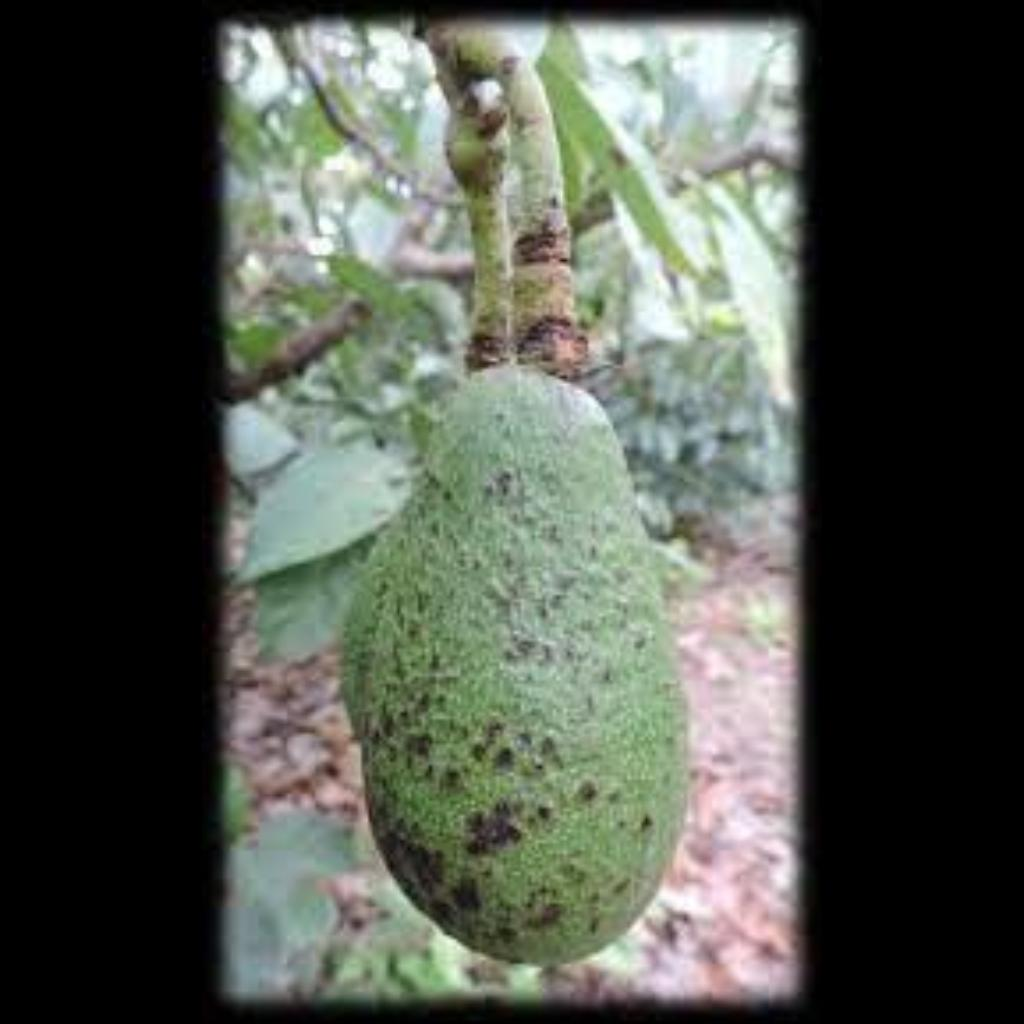cercospora: (400, 475, 680, 929)
